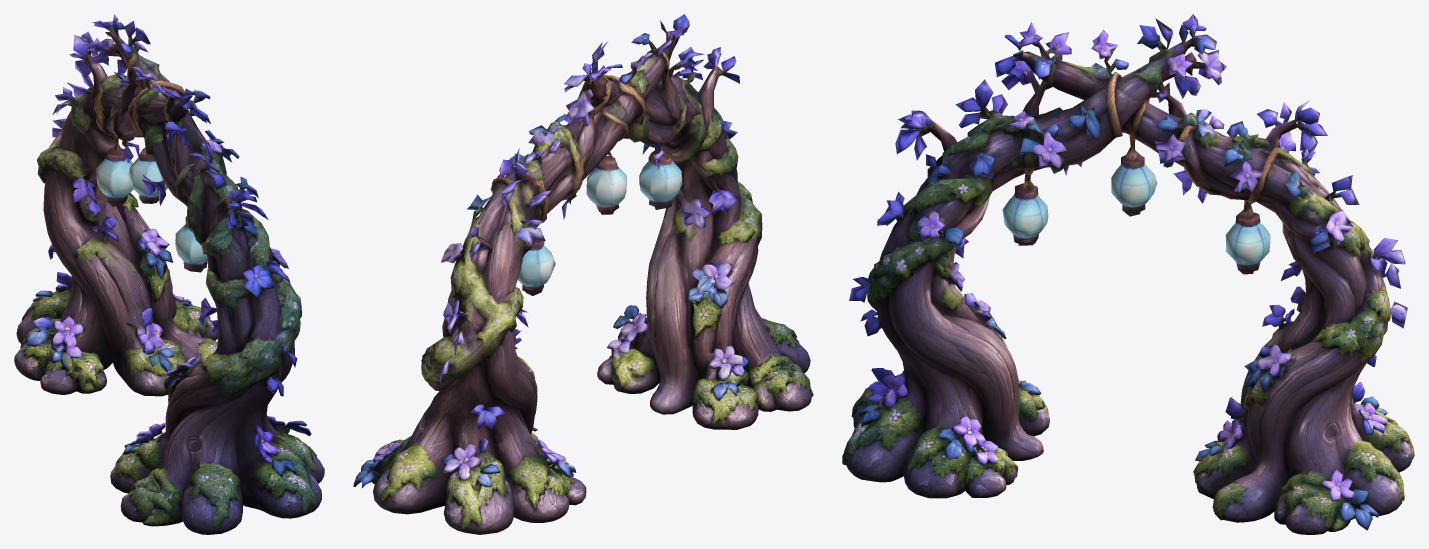
Rendered from H_TreeArch_HD_src.glb.
3 views of the same model, side by side, from view 1: azimuth 30°, elevation 25°; view 2: azimuth 150°, elevation 25°; view 3: azimuth 270°, elevation 25° (orthographic). The views are drawn at different scales.
Visible parts, largest first — view 1: tripo_node_90a54645-6039-42d8-955f-7ce3be27ab04; view 2: tripo_node_90a54645-6039-42d8-955f-7ce3be27ab04; view 3: tripo_node_90a54645-6039-42d8-955f-7ce3be27ab04.
Boxes of the visible parts, <box> form: tripo_node_90a54645-6039-42d8-955f-7ce3be27ab04: <box>14,14,324,534</box>; tripo_node_90a54645-6039-42d8-955f-7ce3be27ab04: <box>353,14,813,534</box>; tripo_node_90a54645-6039-42d8-955f-7ce3be27ab04: <box>842,14,1414,534</box>.
Size of the model in its own units: 0.549 by 0.8273 by 0.9795.
Materials: 1 (1 with a texture image).
